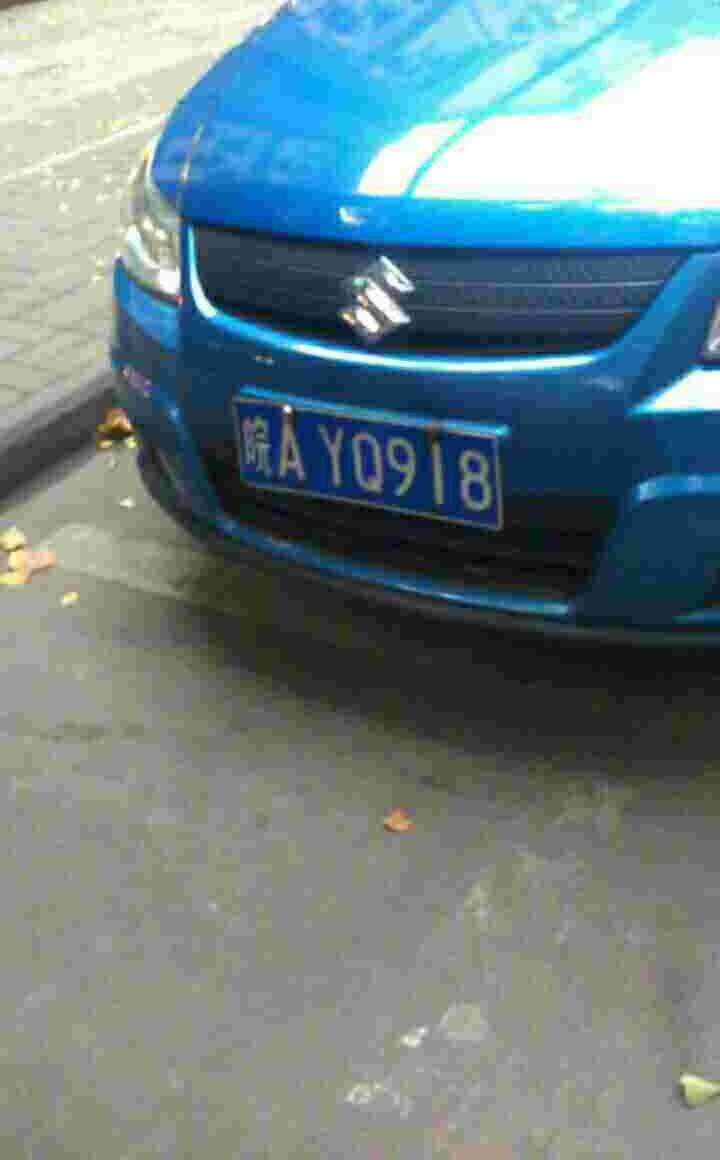license_plate: (237, 395, 502, 531)
